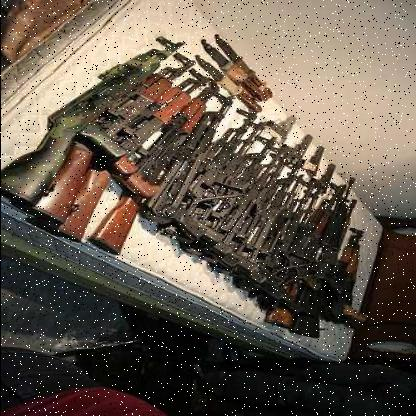rifle: (1, 33, 194, 205)
